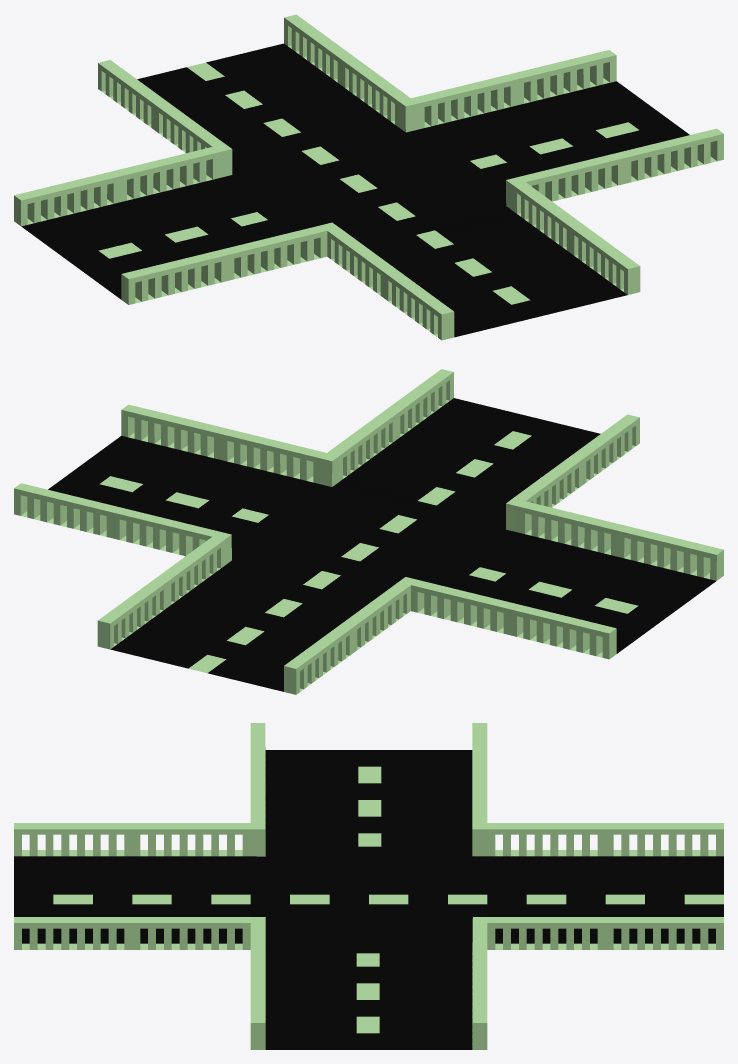
Rendered from Sci-fi_raceTrackJunction_Beta1.fbx.
3 renders of one model, top to bottom at view 1: azimuth 30°, elevation 25°; view 2: azimuth 150°, elevation 25°; view 3: azimuth 270°, elevation 25°, orthographic. The views are drawn at different scales.
Visible parts, largest first — view 1: Plane.002; view 2: Plane.002; view 3: Plane.002.
Boxes of the visible parts, left/top/right/bottom form: Plane.002: left=14, top=14, right=723, bottom=340; Plane.002: left=14, top=369, right=723, bottom=694; Plane.002: left=14, top=723, right=723, bottom=1049.
Bounding box in the file's own units: 3000 × 126 × 3000.
